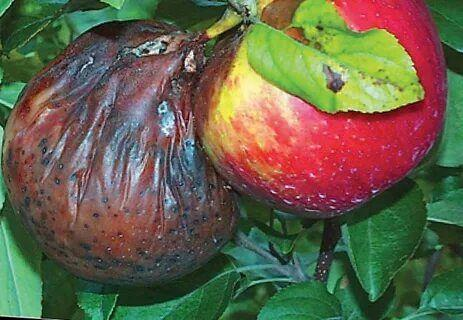Apple: (3, 18, 238, 284), (195, 0, 448, 214), (128, 17, 132, 32)
